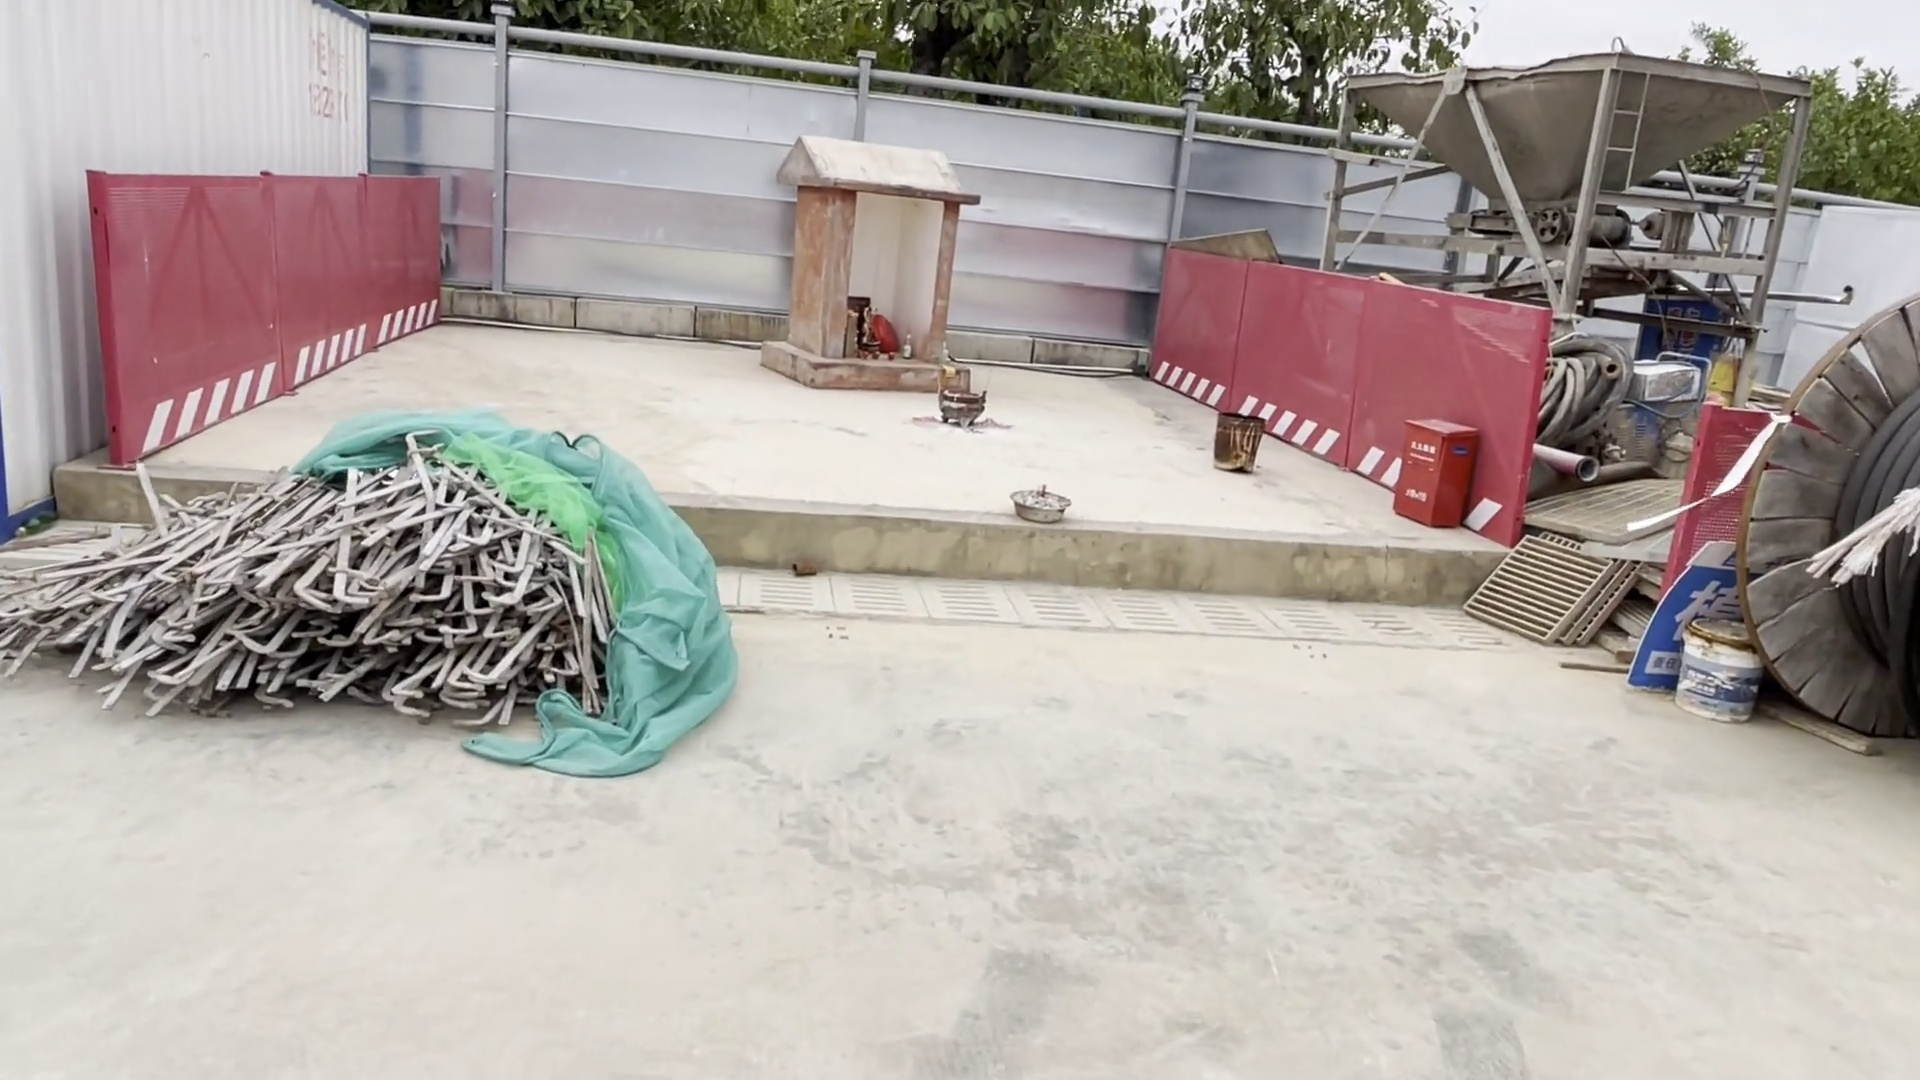fence: (1149, 257, 1549, 575), (86, 170, 452, 454)
